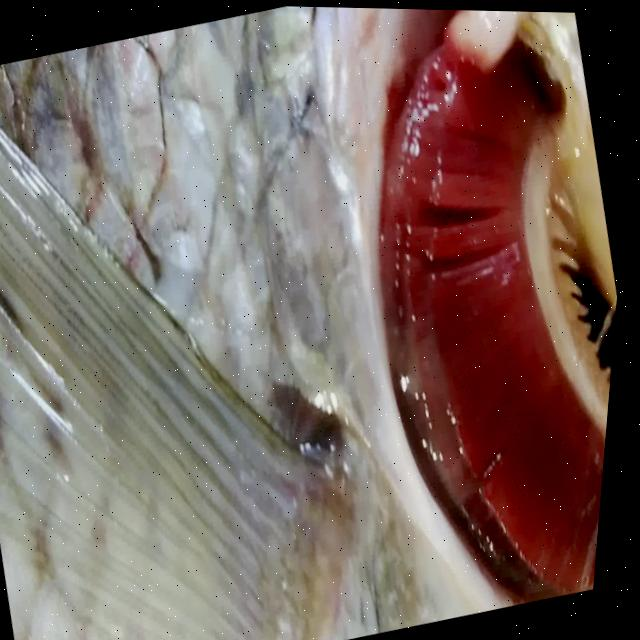Fresh: (285, 6, 640, 623)
